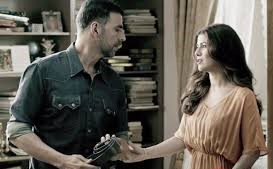Bad: (6, 1, 260, 169)
